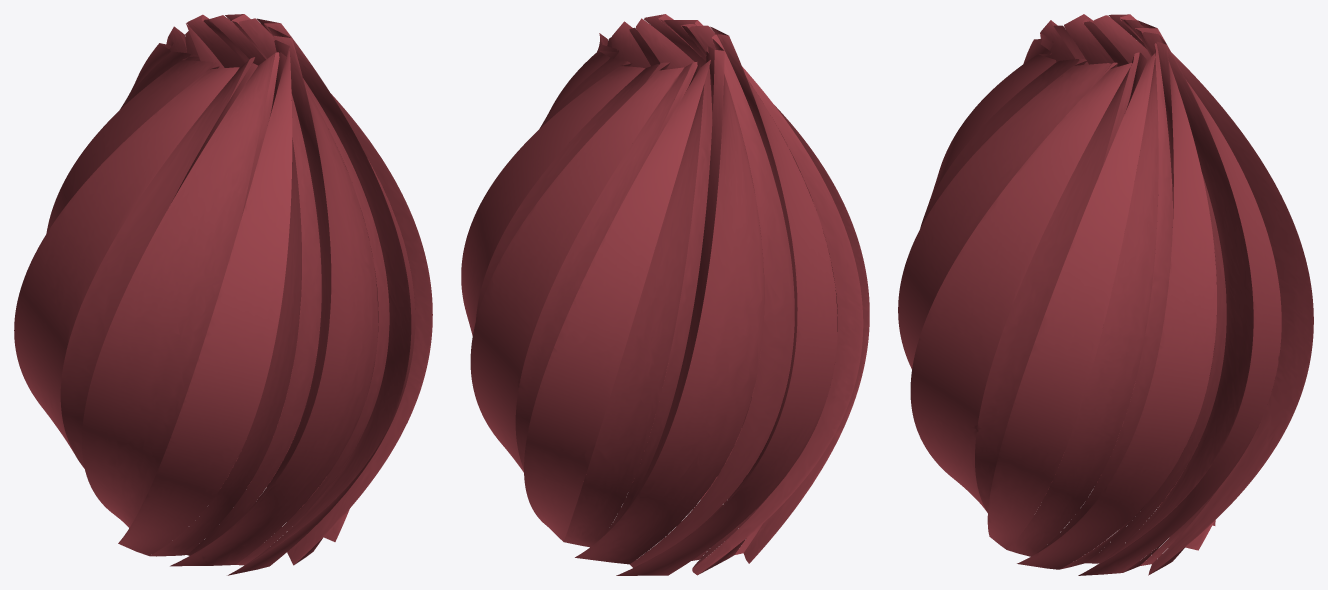
The model's file is blade-solo-a3444d.glb.
3 views of the same model, side by side, from view 1: azimuth 30°, elevation 25°; view 2: azimuth 150°, elevation 25°; view 3: azimuth 270°, elevation 25° (orthographic).
Parts seen in each view (by area): view 1: Blade; view 2: Blade; view 3: Blade.
Part boxes in pixels (left/top/right/bottom): Blade: left=14, top=14, right=432, bottom=575; Blade: left=461, top=14, right=869, bottom=575; Blade: left=898, top=14, right=1313, bottom=575.
Size of the model in its own units: 0.2775 by 0.37 by 0.2841.
